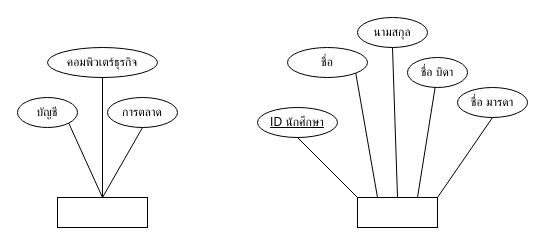
This 545x245 diagram has some shape labels left out. The shapes that lost their labels are listed below. From the top down, each one's box as (x1, y1, x2, y2) in pixels, then its label:
(56, 196, 148, 228): วิทยาการจัดการ
(356, 196, 438, 228): มหาลัย
